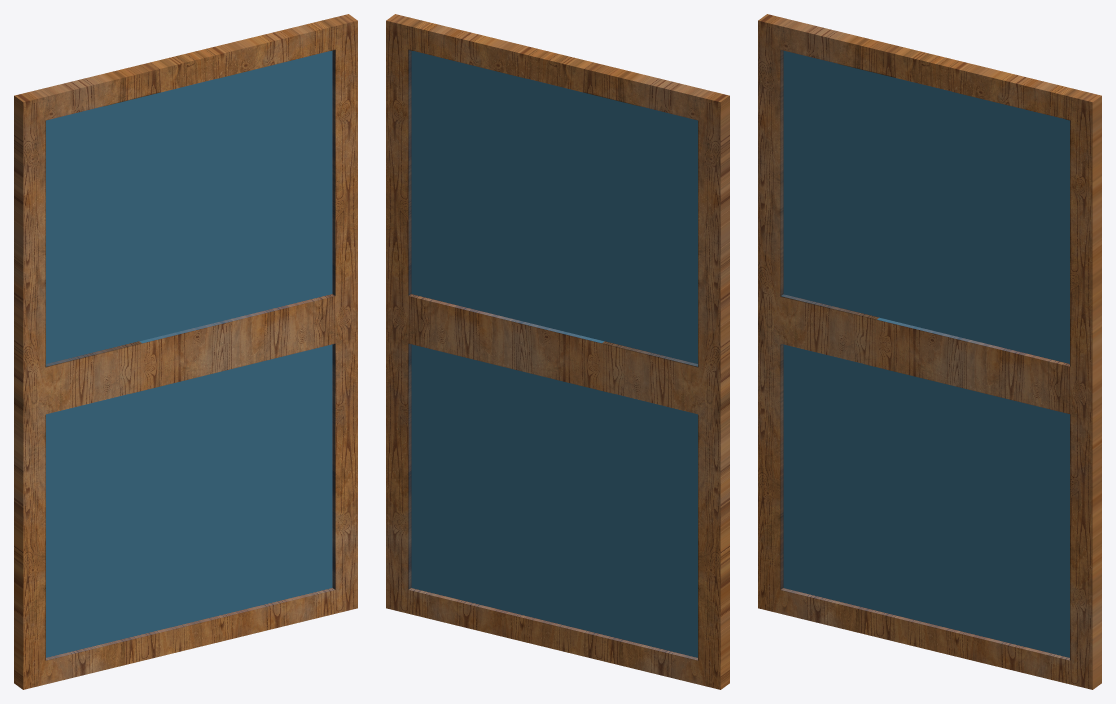
The model's file is porta_segundo_andar_PJ_TEXTURIZADA.fbx.
The picture shows the model from 3 angles, left to right: view 1: azimuth 30°, elevation 25°; view 2: azimuth 150°, elevation 25°; view 3: azimuth 330°, elevation 25°; orthographic projection.
Visible parts, largest first — view 1: Cube.085; view 2: Cube.085; view 3: Cube.085.
Part boxes in pixels (left/top/right/bottom): Cube.085: left=14, top=14, right=357, bottom=689; Cube.085: left=386, top=14, right=729, bottom=689; Cube.085: left=758, top=14, right=1101, bottom=689.
Size of the model in its own units: 126 by 211 by 5.9.
Materials: 1 (1 with a texture image).
